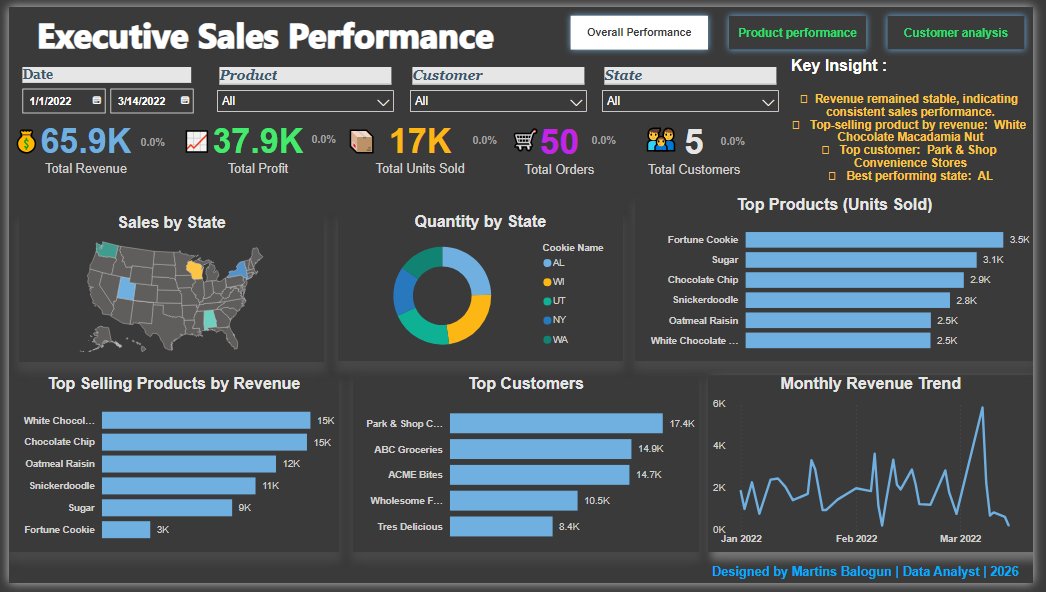

Layout of this report page (visuals, bound fields, positions):
{"tool":"powerbi","page":{"name":"Overall Performance","canvas":[1280,720],"ordinal":0},"visuals":[{"type":"shapeMap","title":"Sales by State","fields":{"Category":["Flat File.State"]},"box":[12.7,258.8,381.2,184.9],"z":0},{"type":"textbox","box":[30.4,0,645.8,69.8],"z":1000},{"type":"slicer","fields":{"Values":["Orders.OrderDate"]},"box":[3.8,70.1,237.1,151.7],"z":2000},{"type":"slicer","fields":{"Values":["Product.CookieName"]},"box":[249.9,70.1,241,70.1],"z":3000},{"type":"slicer","fields":{"Values":["Customers.CustomerName"]},"box":[490.8,70.1,241,70.1],"z":4000},{"type":"slicer","fields":{"Values":["Customers.State"]},"box":[731.8,70.1,241,70.1],"z":5000},{"type":"card","fields":{"Values":["Order_Product.Total Revenue"]},"box":[0,126.2,182.3,95.6],"z":6000},{"type":"card","fields":{"Values":["Order_Product.Total Profit"]},"box":[204,126.2,182.3,95.6],"z":7000},{"type":"card","fields":{"Values":["Order_Product.Total Orders"]},"box":[586.7,126.2,178.5,95.6],"z":8000},{"type":"card","fields":{"Values":["Order_Product.Total Customers"]},"box":[743.5,126.2,187.4,95.6],"z":9000},{"type":"card","fields":{"Values":["Order_Product.Total Quantity Sold"]},"box":[395.5,126.2,197.6,95.6],"z":10000},{"type":"lineChart","title":"Monthly Revenue Trend","fields":{"Y":["Order_Product.Total Revenue"],"Category":["Flat File.OrderDate.Variation.Date Hierarchy.Year","Flat File.OrderDate.Variation.Date Hierarchy.Quarter","Flat File.OrderDate.Variation.Date Hierarchy.Month","Flat File.OrderDate.Variation.Date Hierarchy.Day"]},"box":[873.3,460.2,406.7,220.6],"z":11000},{"type":"donutChart","title":"Quantity by State","fields":{"Category":["Flat File.State"],"Y":["Sum(Flat File.Quantity)"]},"box":[411.8,257.5,355.7,184.9],"z":12000},{"type":"barChart","title":"Top Customers","fields":{"Category":["Flat File.CustomerName"],"Y":["Order_Product.Total Revenue"]},"box":[429.6,460.2,432.2,220.6],"z":13000},{"type":"textbox","box":[873.3,692.3,406.7,28],"z":14000},{"type":"card","fields":{"Values":["Order_Product.Revenue Trend"]},"box":[103.3,142.8,141.5,56.1],"z":15000},{"type":"card","fields":{"Values":["Order_Product.Profit Trend"]},"box":[302.2,142.8,141.5,56.1],"z":16000},{"type":"card","fields":{"Values":["Order_Product.Qauntity Trend"]},"box":[508,141.5,141.5,56.1],"z":17000},{"type":"card","fields":{"Values":["Order_Product.Order Trend"]},"box":[660.4,140.2,141.5,56.1],"z":18000},{"type":"card","fields":{"Values":["Order_Product.Customer Trend"]},"box":[814.7,141.5,141.5,56.1],"z":19000},{"type":"card","title":"Key Insight :","fields":{"Values":["Product.Revenue Insight"]},"box":[972,61.9,308.2,174.4],"z":20000},{"type":"clusteredBarChart","title":"Top Selling Products by Revenue","fields":{"Y":["_Measures.Total Revenue"],"Category":["Product.CookieName"]},"box":[0,460.2,411.8,220.6],"z":21000},{"type":"clusteredBarChart","title":"Top Products (Units Sold)","fields":{"Category":["Flat File.CookieName"],"Y":["Order_Product.Total Quantity Sold"]},"box":[781.9,236.2,498.4,205.9],"z":22000},{"type":"textbox","box":[610.7,141.5,82.9,91.8],"z":23000},{"type":"textbox","box":[1.3,144.1,82.9,91.8],"z":24000},{"type":"textbox","box":[202.7,144.1,82.9,91.8],"z":25000},{"type":"textbox","box":[397.8,144.1,82.9,91.8],"z":26000},{"type":"textbox","box":[770,141.5,82.9,91.8],"z":27000},{"type":"pageNavigator","box":[694.1,2.2,586.1,59.6],"z":28000}]}

Visuals, with their boxes in screenshot pixels (x1, y1, x2, y2), scaled from the page's 1280x720 canvas onto the 1046x592 screenshot:
"Sales by State" shapeMap: [x1=10, y1=213, x2=322, y2=365]
textbox: [x1=25, y1=0, x2=553, y2=57]
slicer - Orders.OrderDate: [x1=3, y1=58, x2=197, y2=182]
slicer - Product.CookieName: [x1=204, y1=58, x2=401, y2=115]
slicer - Customers.CustomerName: [x1=401, y1=58, x2=598, y2=115]
slicer - Customers.State: [x1=598, y1=58, x2=795, y2=115]
card - Order_Product.Total Revenue: [x1=0, y1=104, x2=149, y2=182]
card - Order_Product.Total Profit: [x1=167, y1=104, x2=316, y2=182]
card - Order_Product.Total Orders: [x1=479, y1=104, x2=625, y2=182]
card - Order_Product.Total Customers: [x1=608, y1=104, x2=761, y2=182]
card - Order_Product.Total Quantity Sold: [x1=323, y1=104, x2=485, y2=182]
"Monthly Revenue Trend" lineChart: [x1=714, y1=378, x2=1045, y2=560]
"Quantity by State" donutChart: [x1=337, y1=212, x2=627, y2=364]
"Top Customers" barChart: [x1=351, y1=378, x2=704, y2=560]
textbox: [x1=714, y1=569, x2=1045, y2=591]
card - Order_Product.Revenue Trend: [x1=84, y1=117, x2=200, y2=164]
card - Order_Product.Profit Trend: [x1=247, y1=117, x2=363, y2=164]
card - Order_Product.Qauntity Trend: [x1=415, y1=116, x2=531, y2=162]
card - Order_Product.Order Trend: [x1=540, y1=115, x2=655, y2=161]
card - Order_Product.Customer Trend: [x1=666, y1=116, x2=781, y2=162]
"Key Insight :" card: [x1=794, y1=51, x2=1045, y2=194]
"Top Selling Products by Revenue" clusteredBarChart: [x1=0, y1=378, x2=337, y2=560]
"Top Products (Units Sold)" clusteredBarChart: [x1=639, y1=194, x2=1045, y2=364]
textbox: [x1=499, y1=116, x2=567, y2=192]
textbox: [x1=1, y1=118, x2=69, y2=194]
textbox: [x1=166, y1=118, x2=233, y2=194]
textbox: [x1=325, y1=118, x2=393, y2=194]
textbox: [x1=629, y1=116, x2=697, y2=192]
pageNavigator: [x1=567, y1=2, x2=1045, y2=51]
